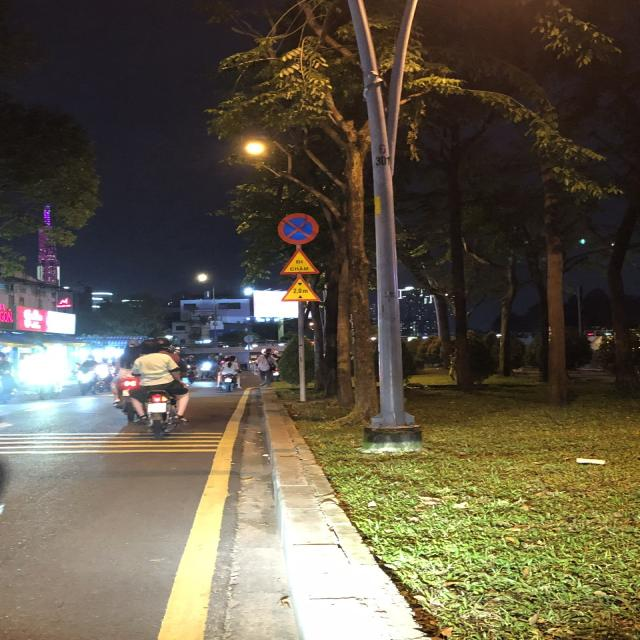Bien bao cam dung xe va do xe: (272, 209, 322, 246)
Bien bao chieu cao tinh khong thuc te: (275, 274, 324, 303)
Bien bao di cham: (275, 247, 323, 276)
